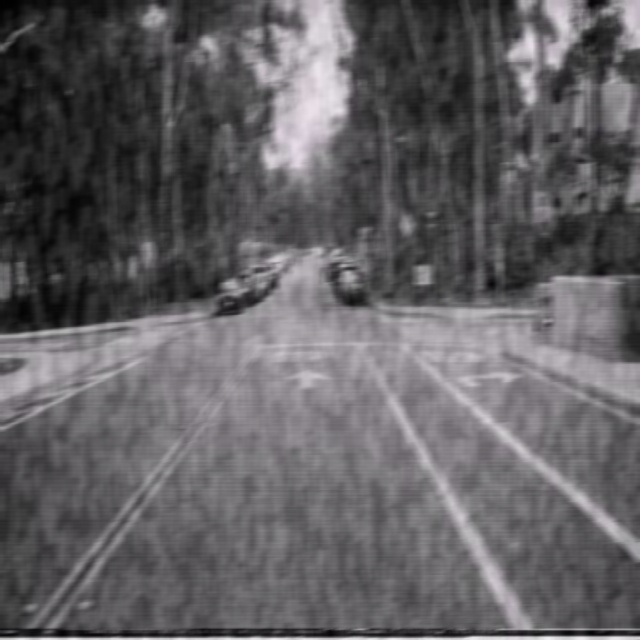stop: (532, 190, 554, 234)
